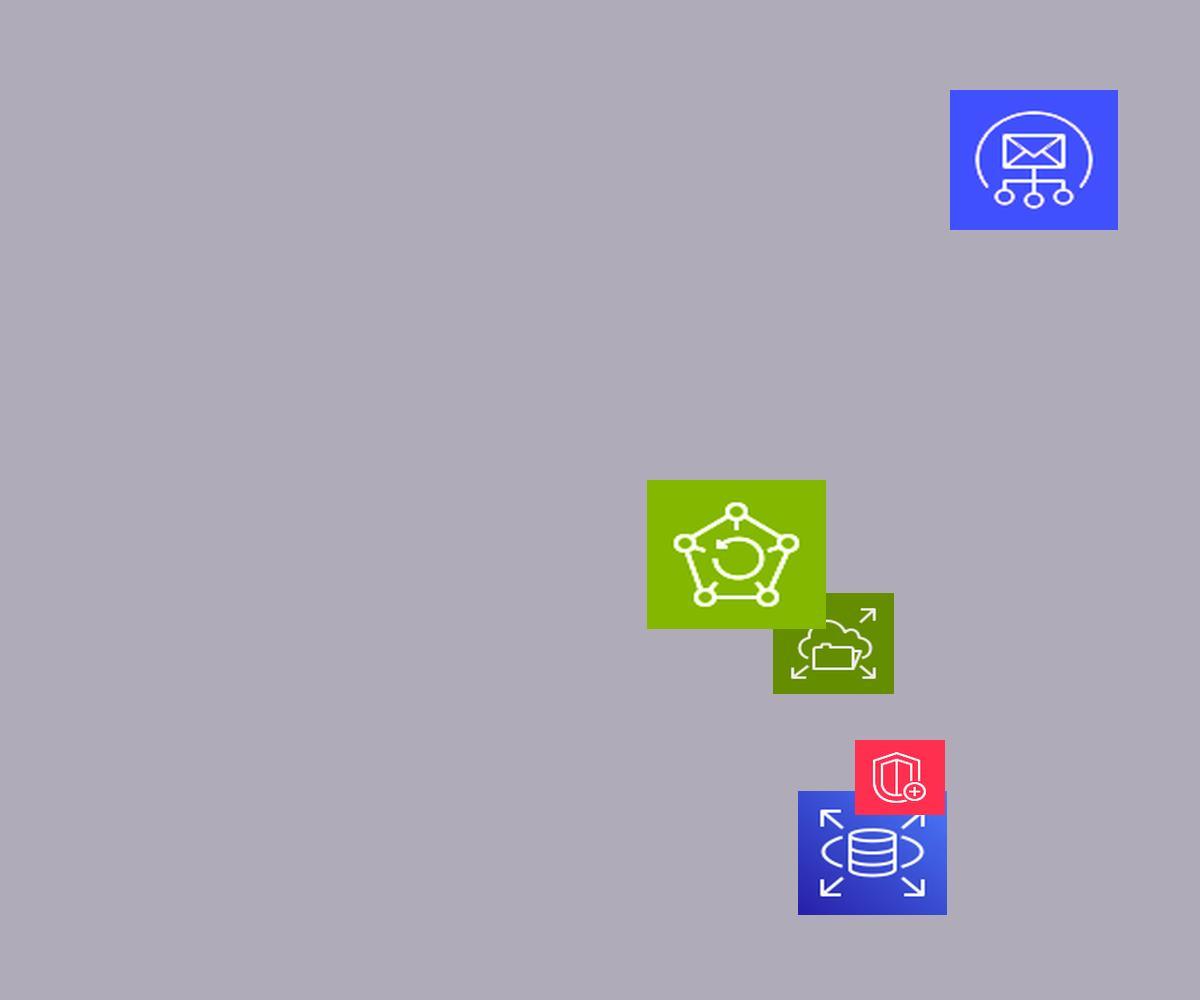AWS-Backup: (647, 480, 826, 629)
AWS-EFS: (773, 593, 894, 694)
AWS-RDS: (798, 791, 947, 915)
AWS-Shield: (855, 740, 945, 815)
AWS-Simple-Email-Service: (950, 90, 1118, 230)
